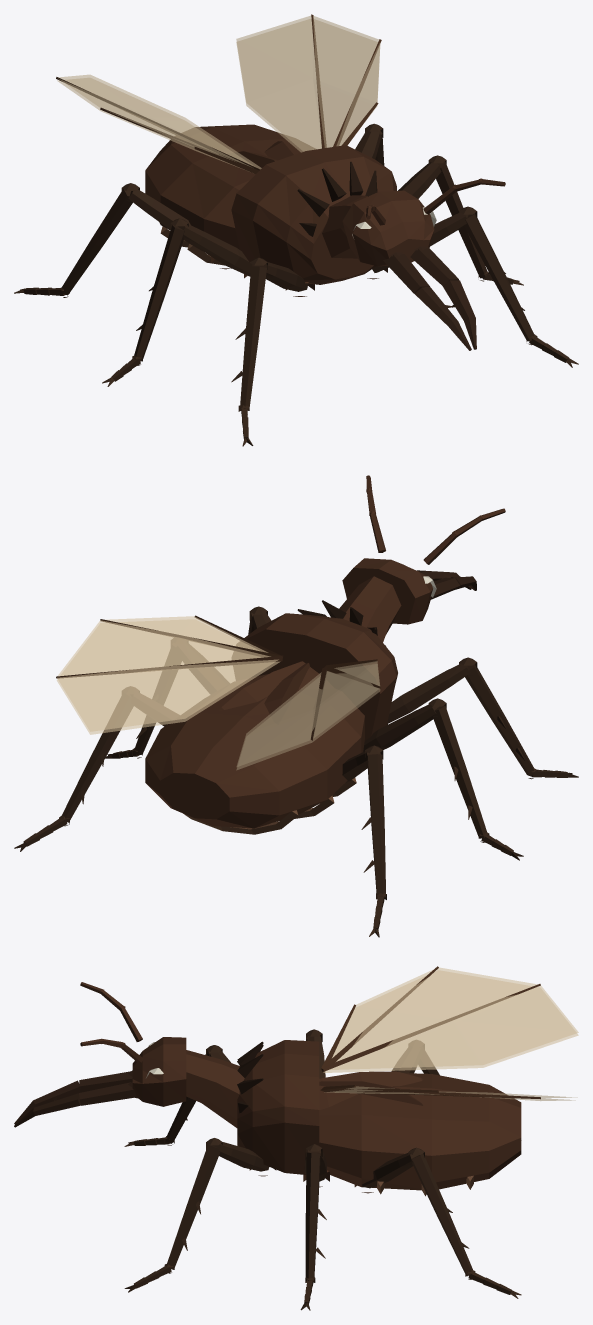
The model's file is pelican_beetle.glb.
The picture shows the model from 3 angles, top to bottom: view 1: azimuth 30°, elevation 25°; view 2: azimuth 150°, elevation 25°; view 3: azimuth 270°, elevation 25°; orthographic projection. The views are drawn at different scales.
Parts seen in each view (by area): view 1: wing_membrane001, ThoraxCore, BeetleBodyInner, HeadBase001, wing_membrane002, Tibia001, Tibia003, Tibia000, Tibia005, Femur003, wing_vein002, neck (+11 smaller); view 2: BeetleBodyInner, wing_membrane001, ThoraxCore, wing_membrane002, HeadBase001, neck, wing_vein001, Tibia005, Tibia003, Tibia004, Tibia001, Femur001 (+8 smaller); view 3: wing_membrane002, BeetleBodyInner, ThoraxCore, HeadBase001, neck, wing_vein002, Tibia002, Tibia004, Tibia000, BeetlePlate_00, wing_vein001, wing_membrane001 (+10 smaller).
Boxes of the visible parts, <box> form: wing_membrane001: <box>236,15,380,152</box>; ThoraxCore: <box>231,145,396,284</box>; BeetleBodyInner: <box>145,124,314,249</box>; HeadBase001: <box>342,190,434,266</box>; wing_membrane002: <box>57,74,261,169</box>; Tibia001: <box>231,266,266,409</box>; Tibia003: <box>134,225,184,361</box>; Tibia000: <box>464,213,534,341</box>; Tibia005: <box>61,189,132,295</box>; Femur003: <box>178,224,250,276</box>; wing_vein002: <box>56,77,260,174</box>; neck: <box>322,195,367,258</box>; BeetleBodyInner: <box>145,674,364,828</box>; wing_membrane001: <box>57,616,279,734</box>; ThoraxCore: <box>232,613,397,740</box>; wing_membrane002: <box>236,661,380,770</box>; HeadBase001: <box>342,558,432,624</box>; neck: <box>339,576,401,642</box>; wing_vein001: <box>56,615,282,678</box>; Tibia005: <box>361,754,386,897</box>; Tibia003: <box>432,705,488,838</box>; Tibia004: <box>61,693,133,822</box>; Tibia001: <box>465,664,535,776</box>; Femur001: <box>387,663,470,723</box>; wing_membrane002: <box>323,967,578,1072</box>; BeetleBodyInner: <box>319,1073,521,1190</box>; ThoraxCore: <box>237,1040,319,1174</box>; HeadBase001: <box>132,1037,186,1106</box>; neck: <box>186,1050,244,1127</box>; wing_vein002: <box>321,966,540,1071</box>; Tibia002: <box>305,1152,326,1281</box>; Tibia004: <box>411,1153,472,1276</box>; Tibia000: <box>166,1144,220,1269</box>; BeetlePlate_00: <box>319,1071,423,1110</box>; wing_vein001: <box>320,1085,540,1099</box>; wing_membrane001: <box>324,1086,577,1100</box>.
Bounding box in the file's own units: 3.43 × 1.77 × 4.42.
